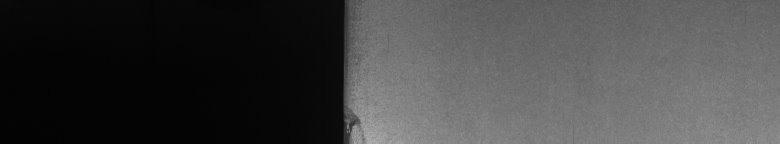hb: (352, 100, 368, 136)
